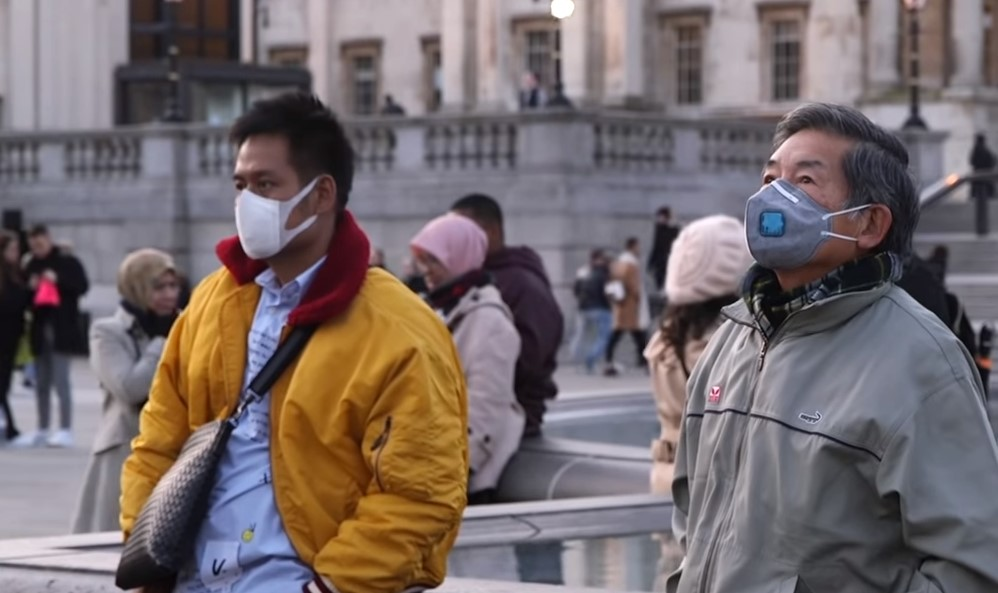face_with_mask: (739, 112, 907, 278), (231, 106, 348, 258)
